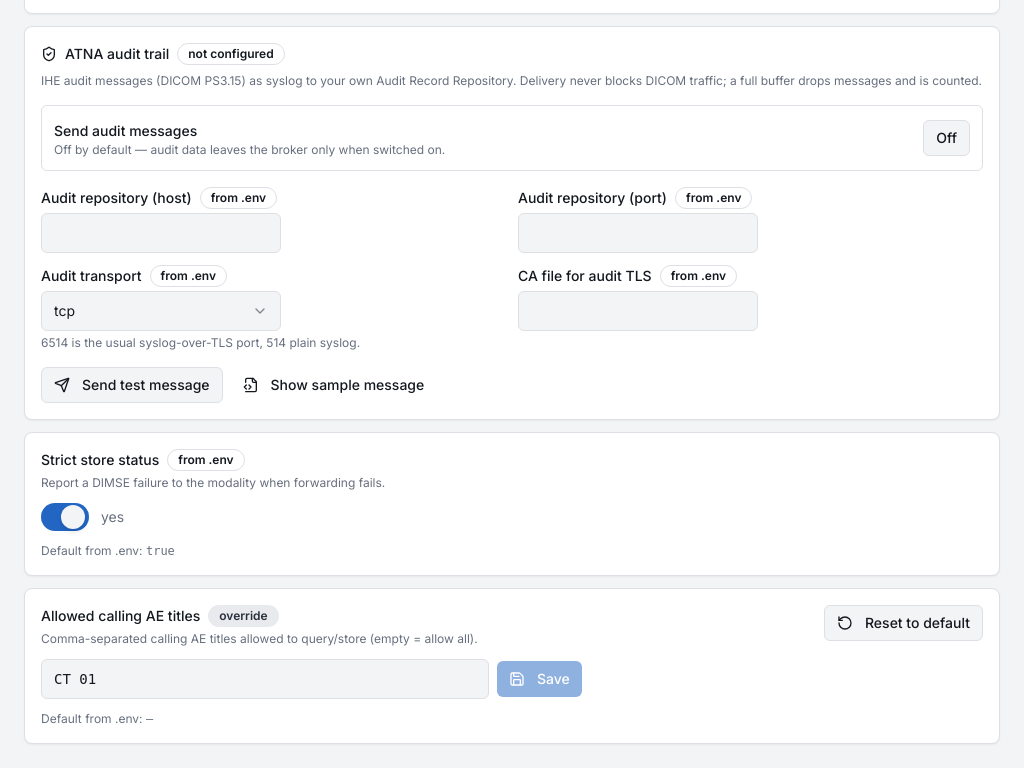
Test: BrokerSettingsPage › catches an invalid value before sending it
The image size is (1024, 768).
(page scrolled)
Expected: the text "Allowed calling AE titles" is shown, [41, 606, 200, 626]
Replace the text in the field labelled "Allowed calling AE titles" with "nope!". click: (265, 679)
box: [41, 659, 489, 699]
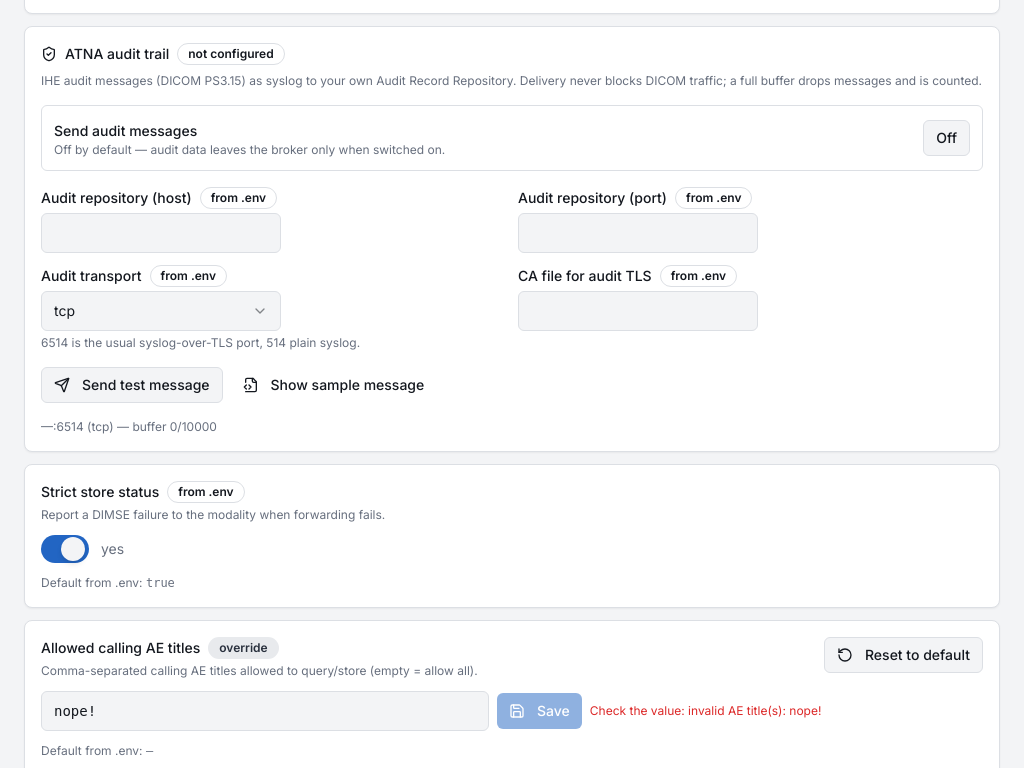
Expected: the button "Save" is disabled, [497, 693, 582, 729]
Expected: the message shows "invalid AE title", [590, 703, 821, 718]
